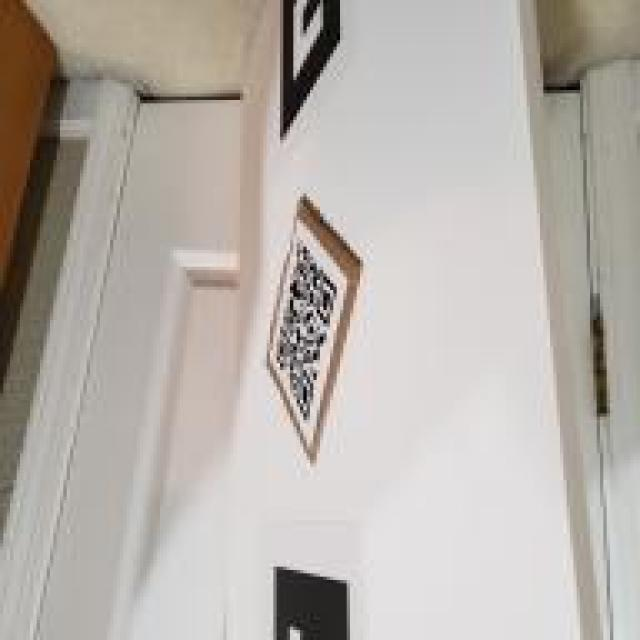QR_CODE: (266, 232, 346, 426)
